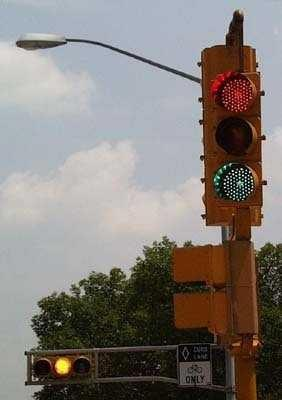11: (31, 351, 102, 383)
3: (217, 110, 262, 164), (30, 353, 56, 383), (72, 356, 94, 378)
5: (210, 66, 260, 116)
9: (52, 356, 72, 380)
red traffic light: (212, 160, 260, 208)
